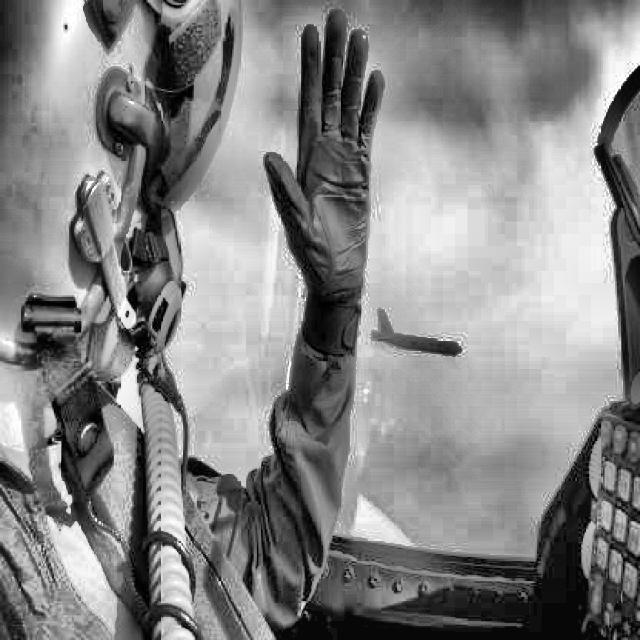B52: (371, 309, 462, 356)
